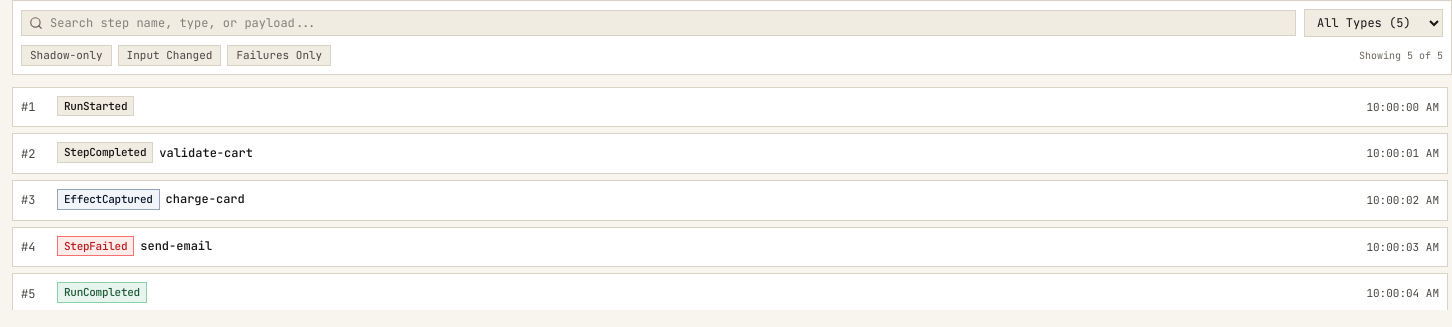
Test: Stage 3 Features Component Unit Tests › Feature 3: Event Search and Filters › filters events by search query, shadow-only, failures-only, and type
Check: the element with test id "event-filters-bar" is shown, box [12,0,1451,75]
# Filter by text search "charge"
Type "charge" into the field with test id "event-search-input" at {"x": 658, "y": 23}, box [21,10,1296,36]
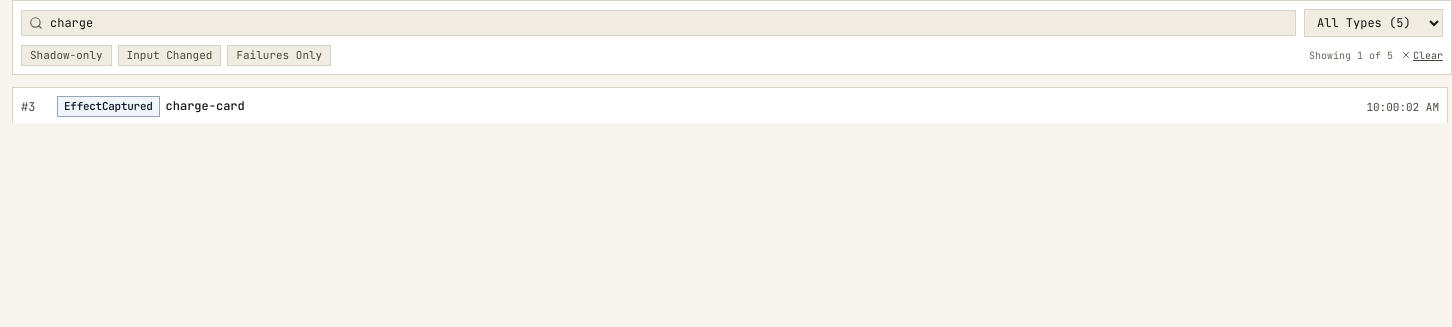
Check: the text "charge-card" is shown, box [166,98,245,114]
Check: the text with test id "event-matches-count" reads "Showing 1 of 5", box [1309,49,1393,62]
# Clear filters
Click the button with test id "clear-event-filters-btn" at {"x": 1422, "y": 55}, box [1401,49,1443,62]
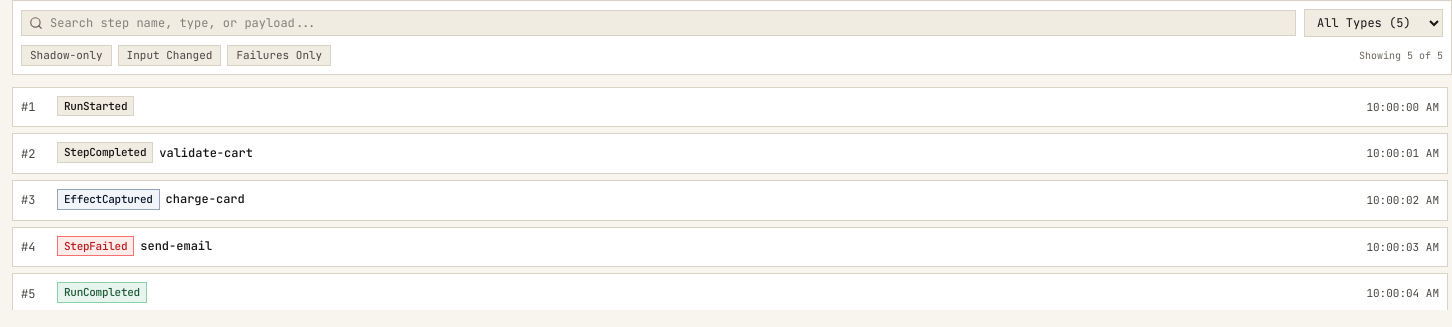
Check: the text with test id "event-matches-count" reads "Showing 5 of 5", box [1359,49,1443,62]
# Toggle Failures Only
Click the button with test id "filter-failures-only" at {"x": 279, "y": 55}, box [227,45,331,66]
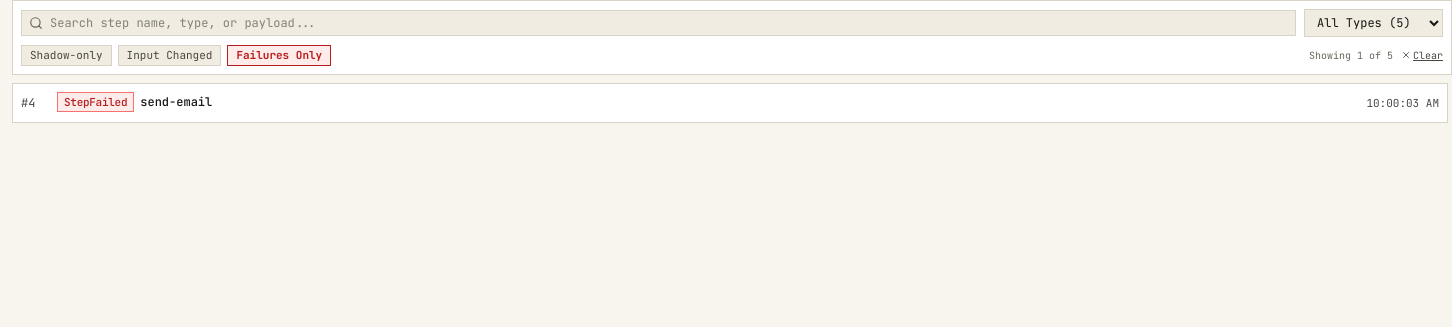
Check: the text "send-email" is shown, box [140,94,212,110]
Check: the text with test id "event-matches-count" reads "Showing 1 of 5", box [1309,49,1393,62]
